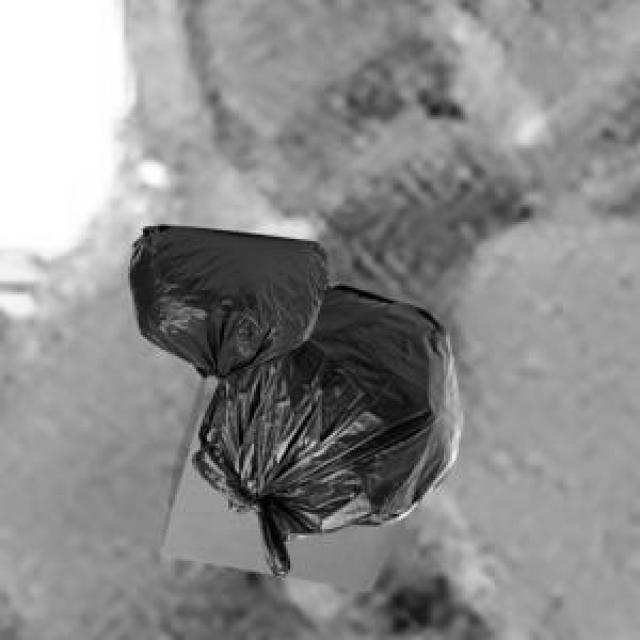miscellaneous trash: (188, 282, 459, 576), (126, 222, 324, 444)
paper: (158, 371, 403, 587)
